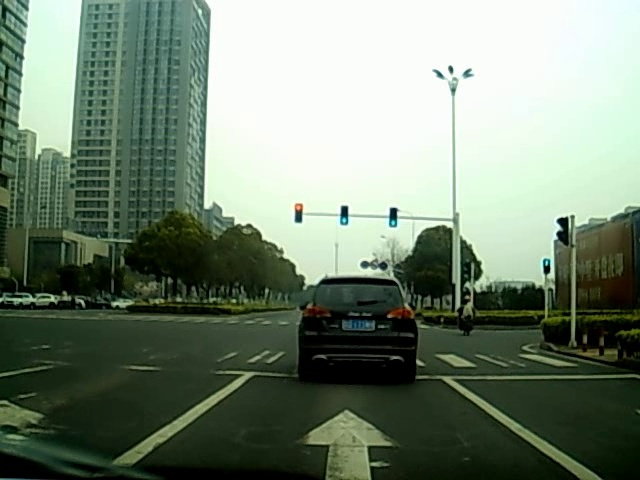Traffic_Light_go: (388, 208, 397, 227), (341, 206, 348, 226)
Traffic_Light_stop: (295, 203, 303, 223)
